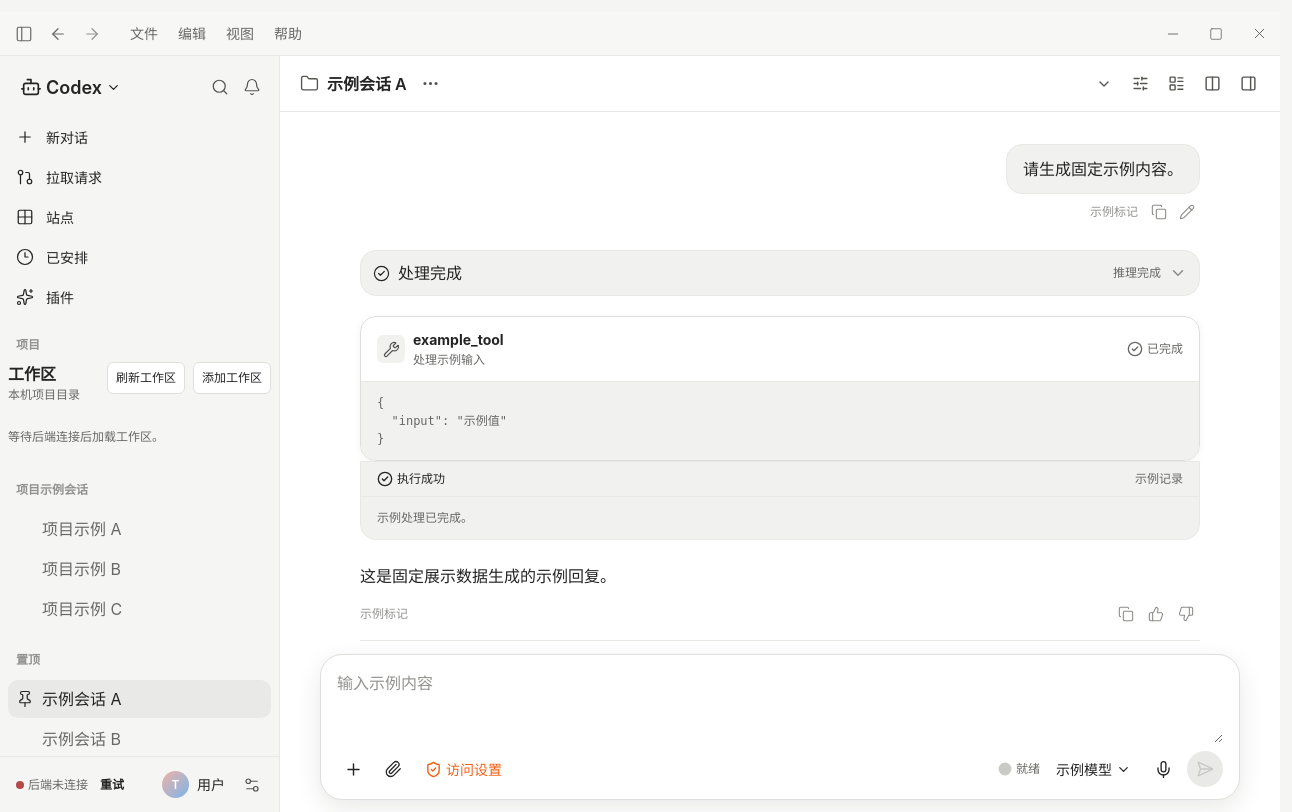
Test: App Harness › switches Project and Recent sidebar conversations into the main view
Click the button "项目示例 A".
click(82, 529)  # box [8,510,271,548]
(page scrolled)
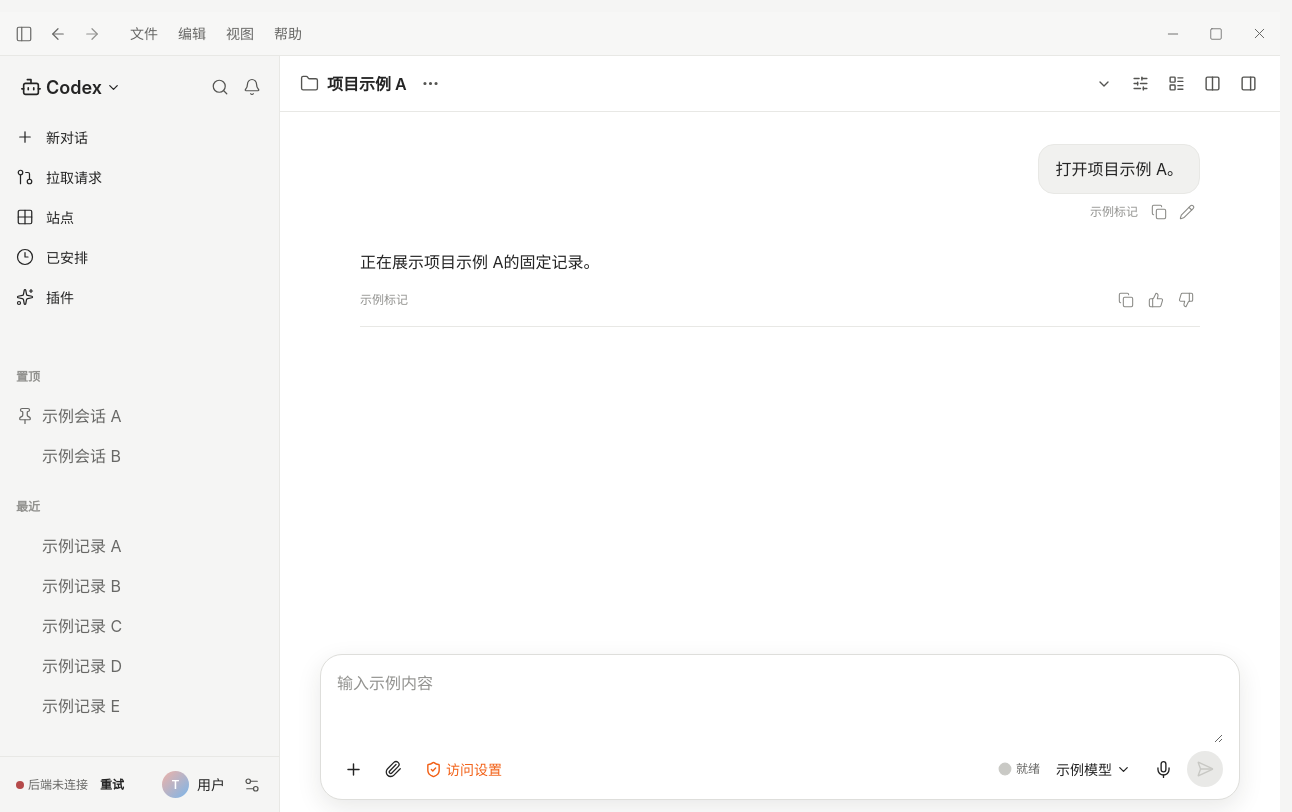
Check: the text "项目示例 A" is shown, box [327,72,407,96]
Click the button "示例记录 A".
click(82, 546)  # box [8,527,271,565]
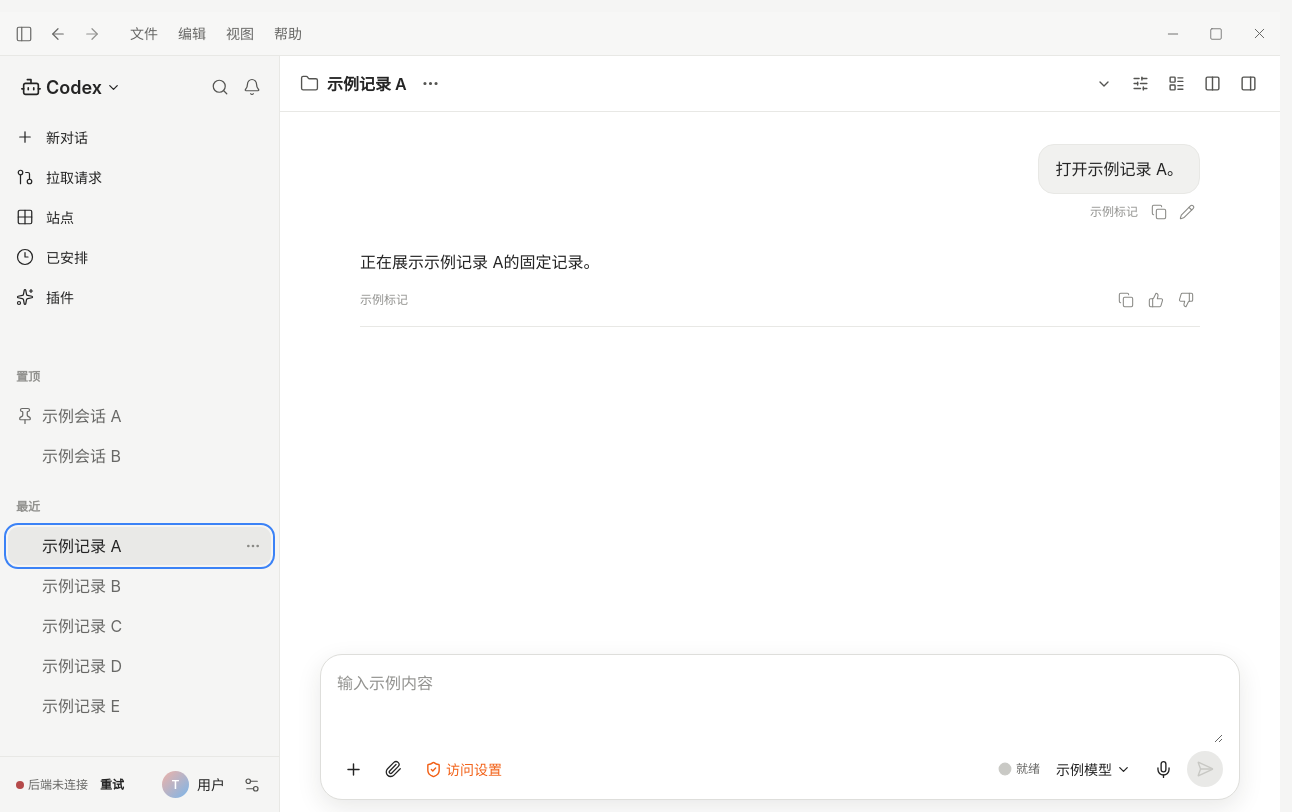
Check: the 1st text "示例记录 A" is shown, box [327,72,407,96]
